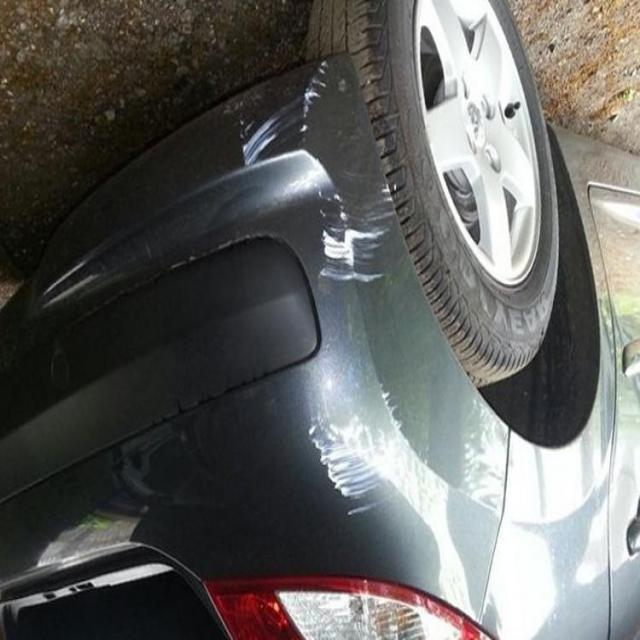scratch: (222, 56, 420, 304), (304, 386, 422, 523)
